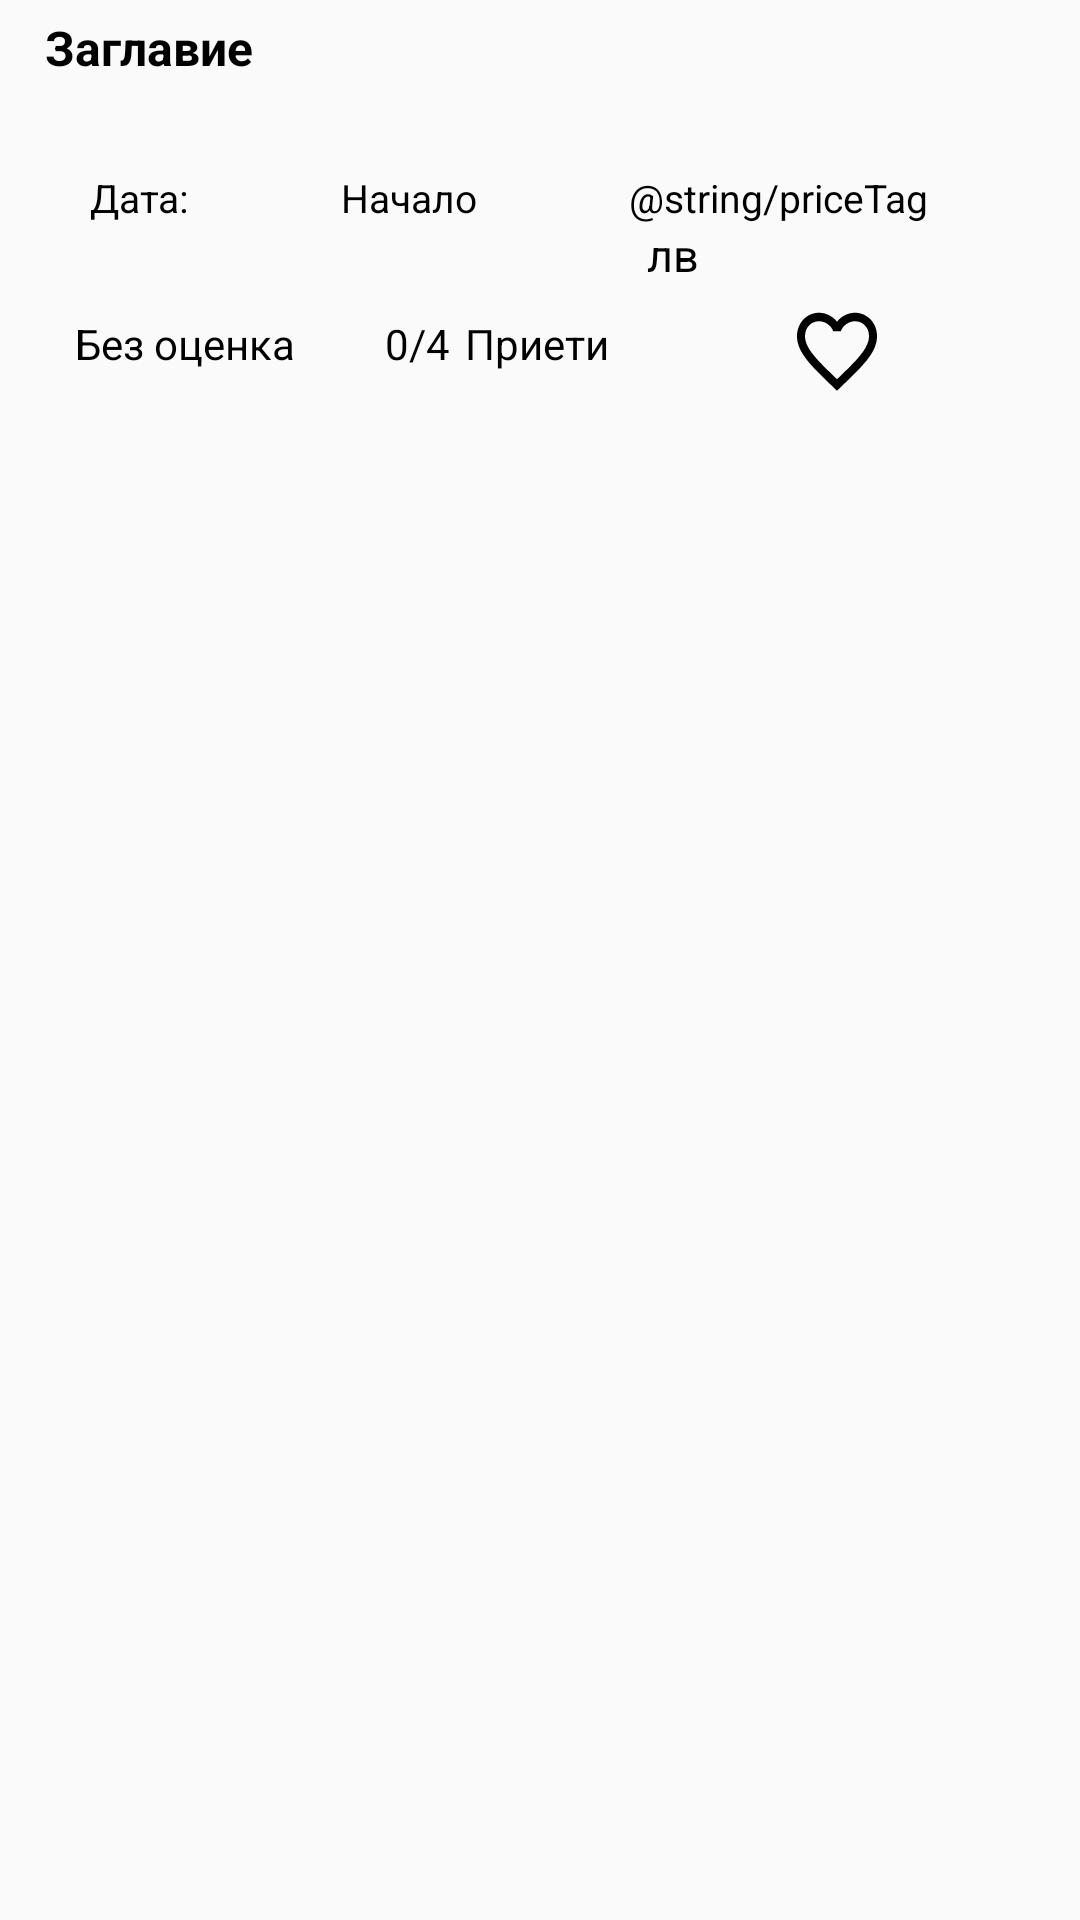

Icons on this 1080x1920 Android screen, each with its box as [left=x1, top=y1, right=x2, bottom=y2]:
favorite border: [left=797, top=312, right=877, bottom=391]
